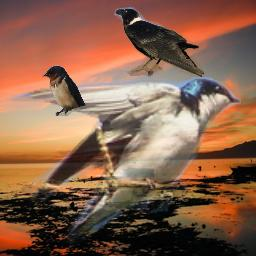Crow: (114, 6, 204, 77)
Swallow: (10, 74, 241, 251), (42, 65, 86, 116)
